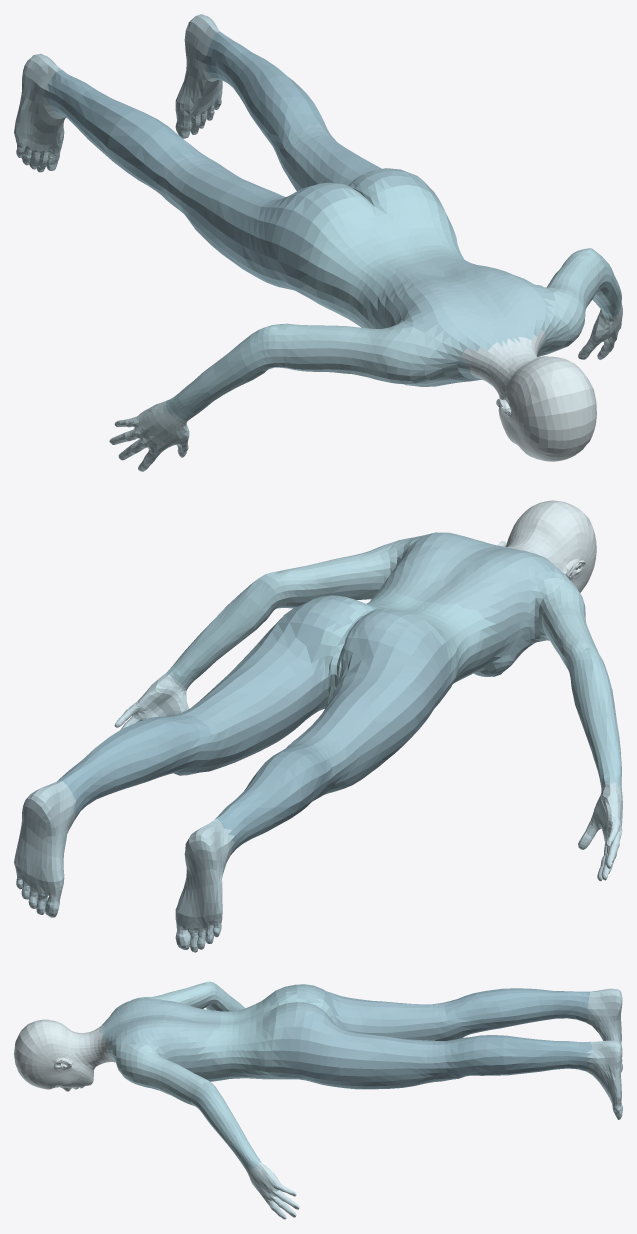
The model's file is crew_C2.glb.
3 renders of one model, top to bottom at view 1: azimuth 30°, elevation 25°; view 2: azimuth 150°, elevation 25°; view 3: azimuth 270°, elevation 25°, orthographic. The views are drawn at different scales.
Parts seen in each view (by area): view 1: chest, abdomen, right_thigh, right_upper_arm, head, right_lower_leg, left_lower_leg, right_foot, left_thigh, left_upper_arm, right_forearm, left_foot (+5 smaller); view 2: right_thigh, left_thigh, abdomen, left_lower_leg, chest, right_lower_leg, left_foot, right_foot, left_upper_arm, left_forearm, right_forearm, head (+5 smaller); view 3: left_thigh, chest, abdomen, left_lower_leg, right_lower_leg, right_thigh, head, left_upper_arm, left_forearm, left_foot, right_foot, left_hand (+4 smaller).
Boxes of the visible parts, x1,y1,x2,y2 form: chest: [298, 177, 467, 328]; abdomen: [372, 256, 556, 386]; right_thigh: [160, 153, 314, 299]; right_upper_arm: [263, 321, 479, 385]; head: [496, 356, 596, 461]; right_lower_leg: [44, 70, 208, 194]; left_lower_leg: [202, 32, 328, 146]; right_foot: [14, 53, 65, 172]; left_thigh: [273, 122, 436, 195]; left_upper_arm: [537, 249, 604, 357]; right_forearm: [162, 324, 276, 420]; left_foot: [175, 14, 222, 138]; right_thigh: [286, 627, 453, 799]; left_thigh: [174, 604, 329, 775]; abdomen: [378, 532, 556, 677]; left_lower_leg: [57, 713, 211, 819]; chest: [319, 588, 497, 710]; right_lower_leg: [215, 743, 333, 854]; left_foot: [14, 781, 76, 917]; right_foot: [175, 818, 234, 952]; left_upper_arm: [268, 537, 411, 608]; left_forearm: [166, 572, 279, 689]; right_forearm: [569, 650, 621, 788]; head: [498, 500, 596, 592]; left_thigh: [272, 1007, 457, 1089]; chest: [196, 987, 336, 1081]; abdomen: [99, 998, 220, 1081]; left_lower_leg: [444, 1035, 592, 1078]; right_lower_leg: [444, 988, 592, 1037]; right_thigh: [306, 984, 470, 1040]; head: [14, 1019, 98, 1091]; left_upper_arm: [107, 1036, 211, 1106]; left_forearm: [196, 1082, 261, 1169]; left_foot: [586, 1040, 622, 1119]; right_foot: [584, 988, 622, 1072]; left_hand: [245, 1161, 299, 1219].
Size of the model in its own units: 1.05 by 0.4512 by 1.67.
